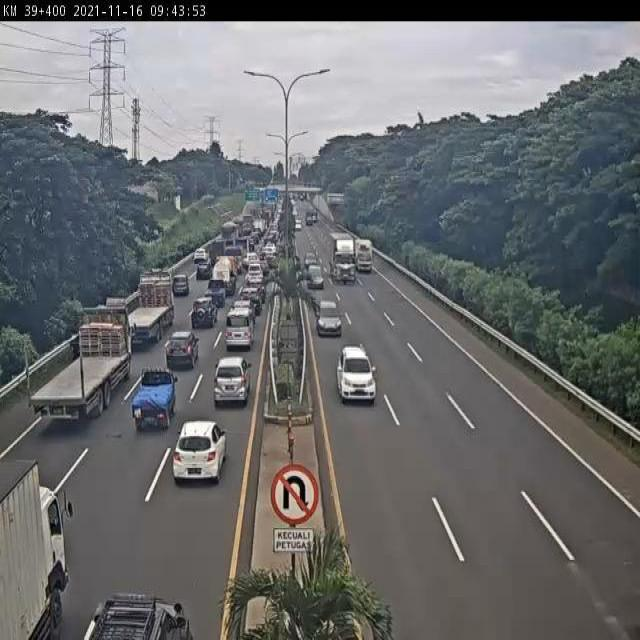car: (172, 420, 230, 488), (130, 368, 178, 431), (336, 344, 377, 405), (213, 356, 252, 409), (164, 331, 199, 373), (225, 308, 254, 349), (189, 296, 216, 332), (316, 301, 342, 336), (170, 275, 190, 301), (206, 279, 226, 305)
truck-l-: (23, 311, 134, 429), (125, 271, 175, 348)
